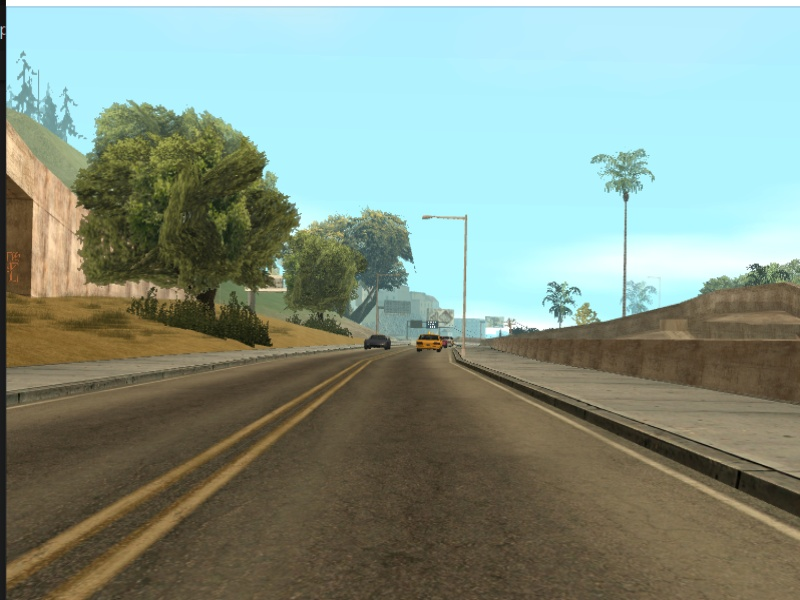pole: (459, 216, 472, 361)
vehicle: (414, 330, 445, 353), (362, 334, 392, 352)
